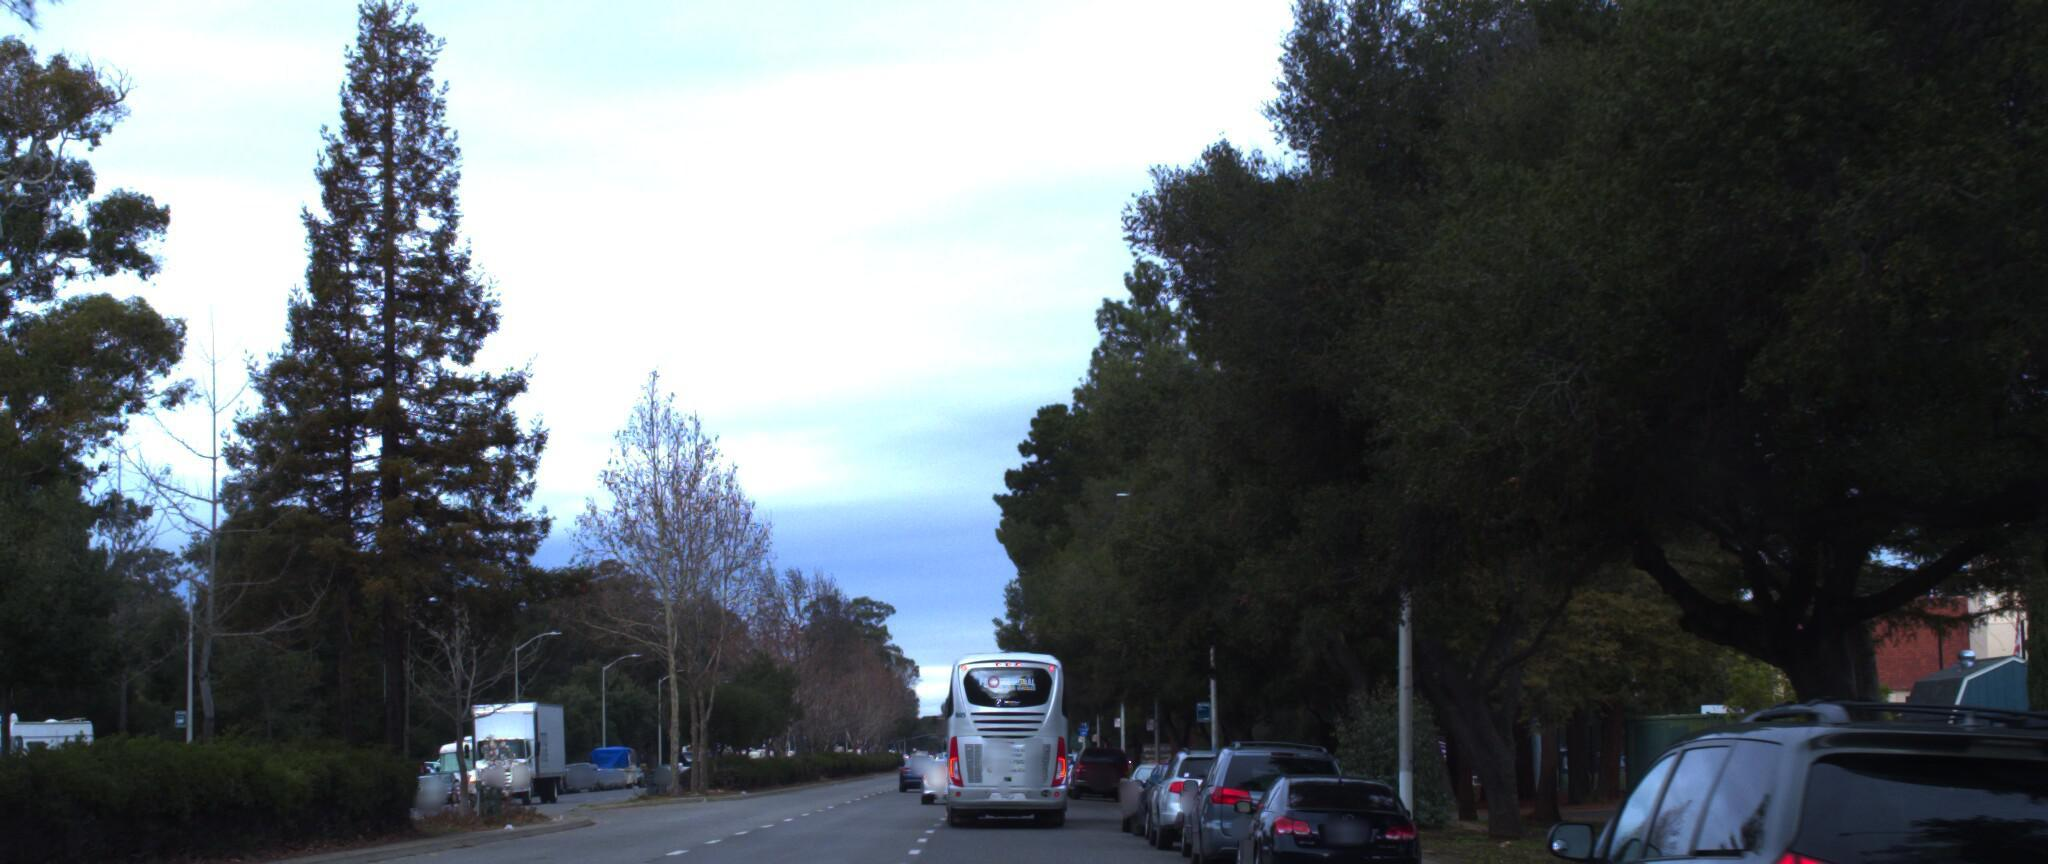bus: (936, 633, 1084, 820)
car: (1505, 666, 2048, 864), (1178, 720, 1358, 864), (1223, 758, 1437, 864), (1132, 733, 1276, 844), (1949, 786, 2048, 864)
other_vehicle: (0, 693, 124, 843)
